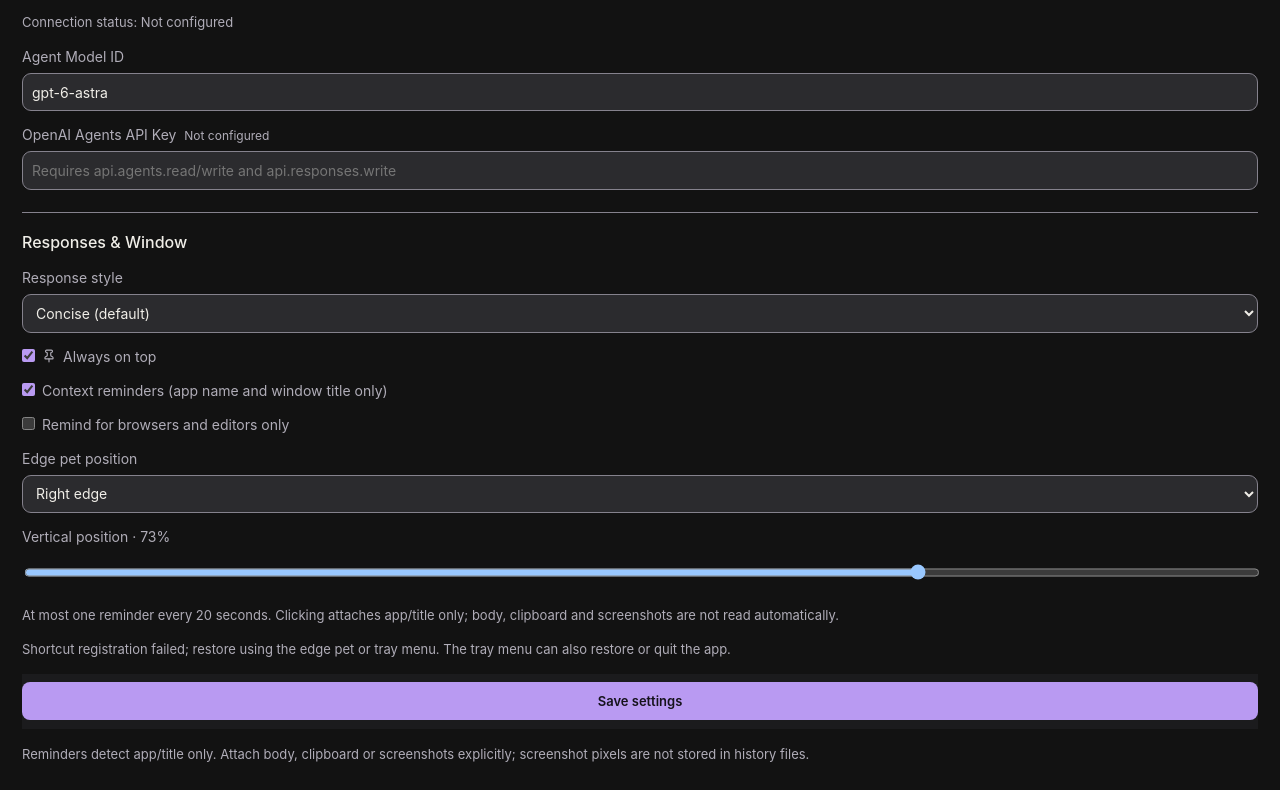
Test case: real settings lifecycle › shows a real localized save failure and never a saved state
Click the button "Save settings".
click(640, 701)  # box [22, 682, 1258, 720]
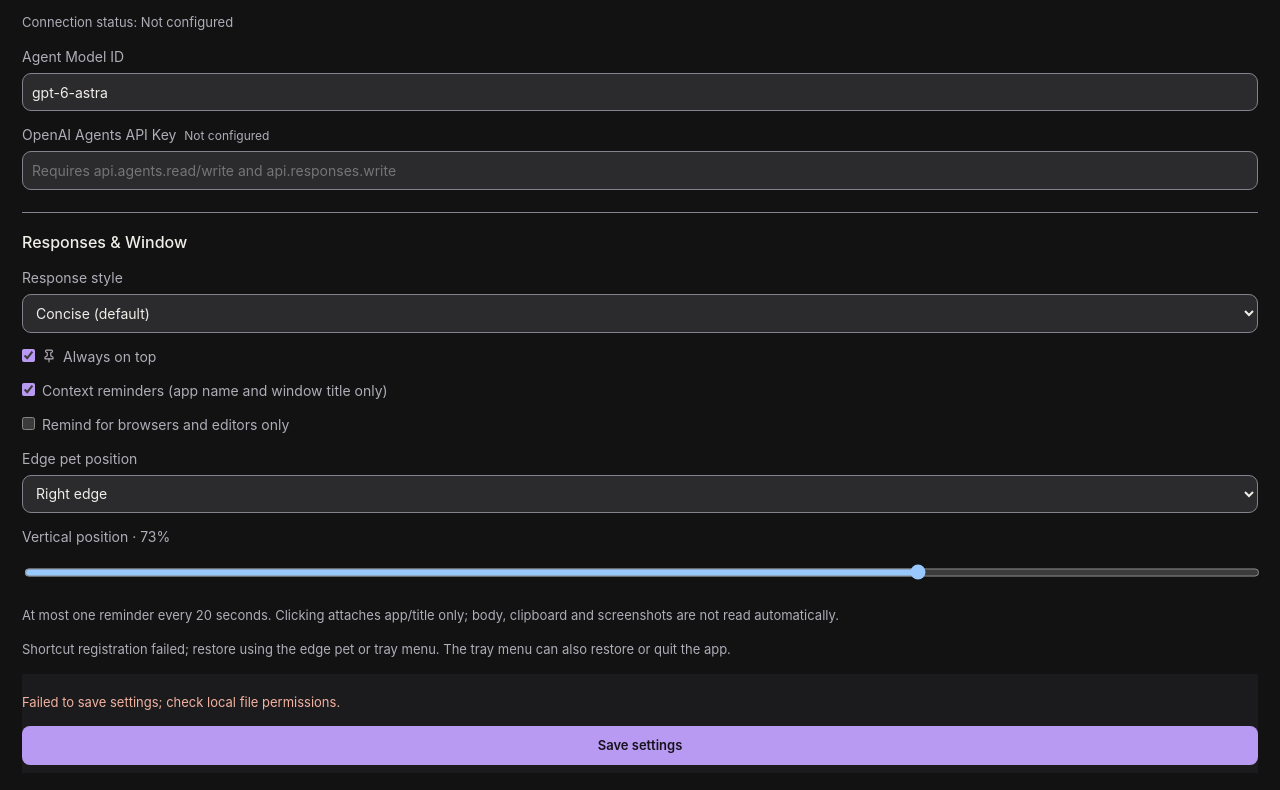
Expected: the message "Failed to save settings; check local file permissions." is shown, [22, 694, 340, 710]
